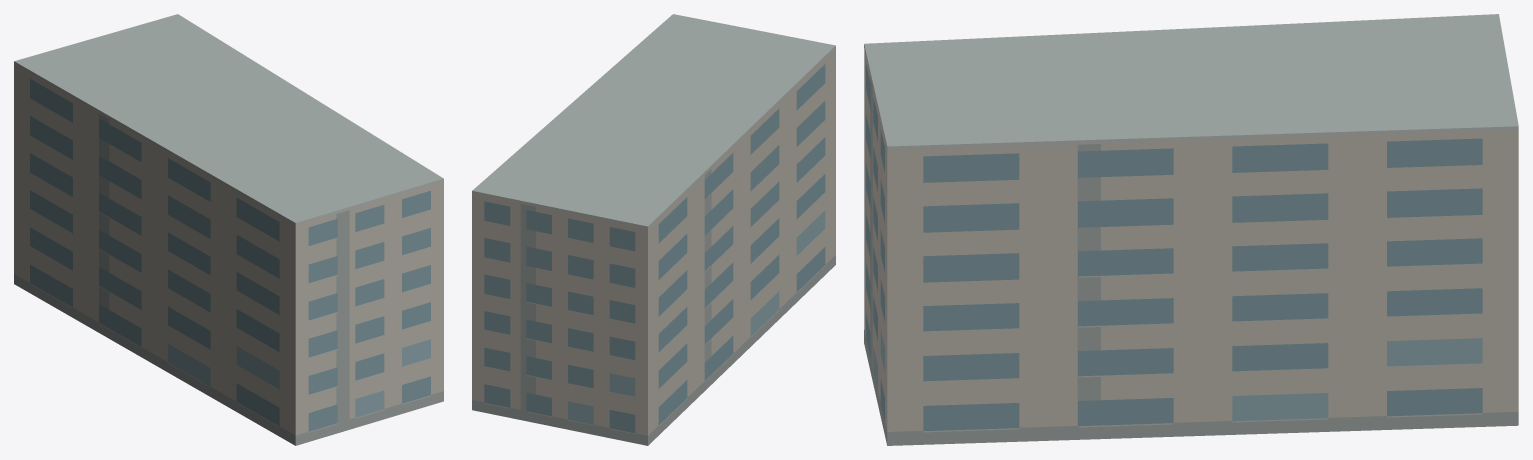
Rendered from residential-c6c25cb8-d074-42c3-ada4-65c7e2906d9e.glb.
3 renders of one model, left to right at view 1: azimuth 30°, elevation 25°; view 2: azimuth 150°, elevation 25°; view 3: azimuth 270°, elevation 25°, orthographic. The views are drawn at different scales.
Visible parts, largest first — view 1: residential-c6c25cb8-d074-42c3-ada4-65c7e2906d9e.tmp; view 2: residential-c6c25cb8-d074-42c3-ada4-65c7e2906d9e.tmp; view 3: residential-c6c25cb8-d074-42c3-ada4-65c7e2906d9e.tmp.
Part boxes in pixels (bbox=[...]): residential-c6c25cb8-d074-42c3-ada4-65c7e2906d9e.tmp: bbox=[14, 14, 443, 445]; residential-c6c25cb8-d074-42c3-ada4-65c7e2906d9e.tmp: bbox=[472, 14, 835, 445]; residential-c6c25cb8-d074-42c3-ada4-65c7e2906d9e.tmp: bbox=[864, 14, 1518, 445].
Size of the model in its own units: 16.14 by 17 by 33.7.
